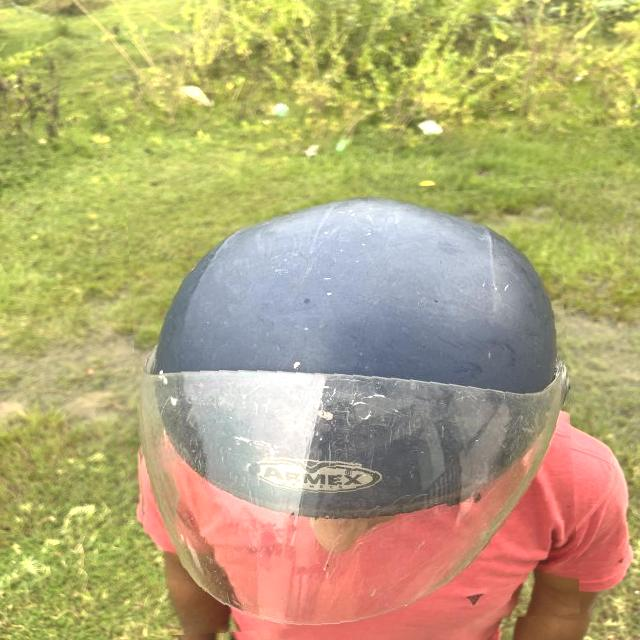helmet: (133, 190, 575, 630)
